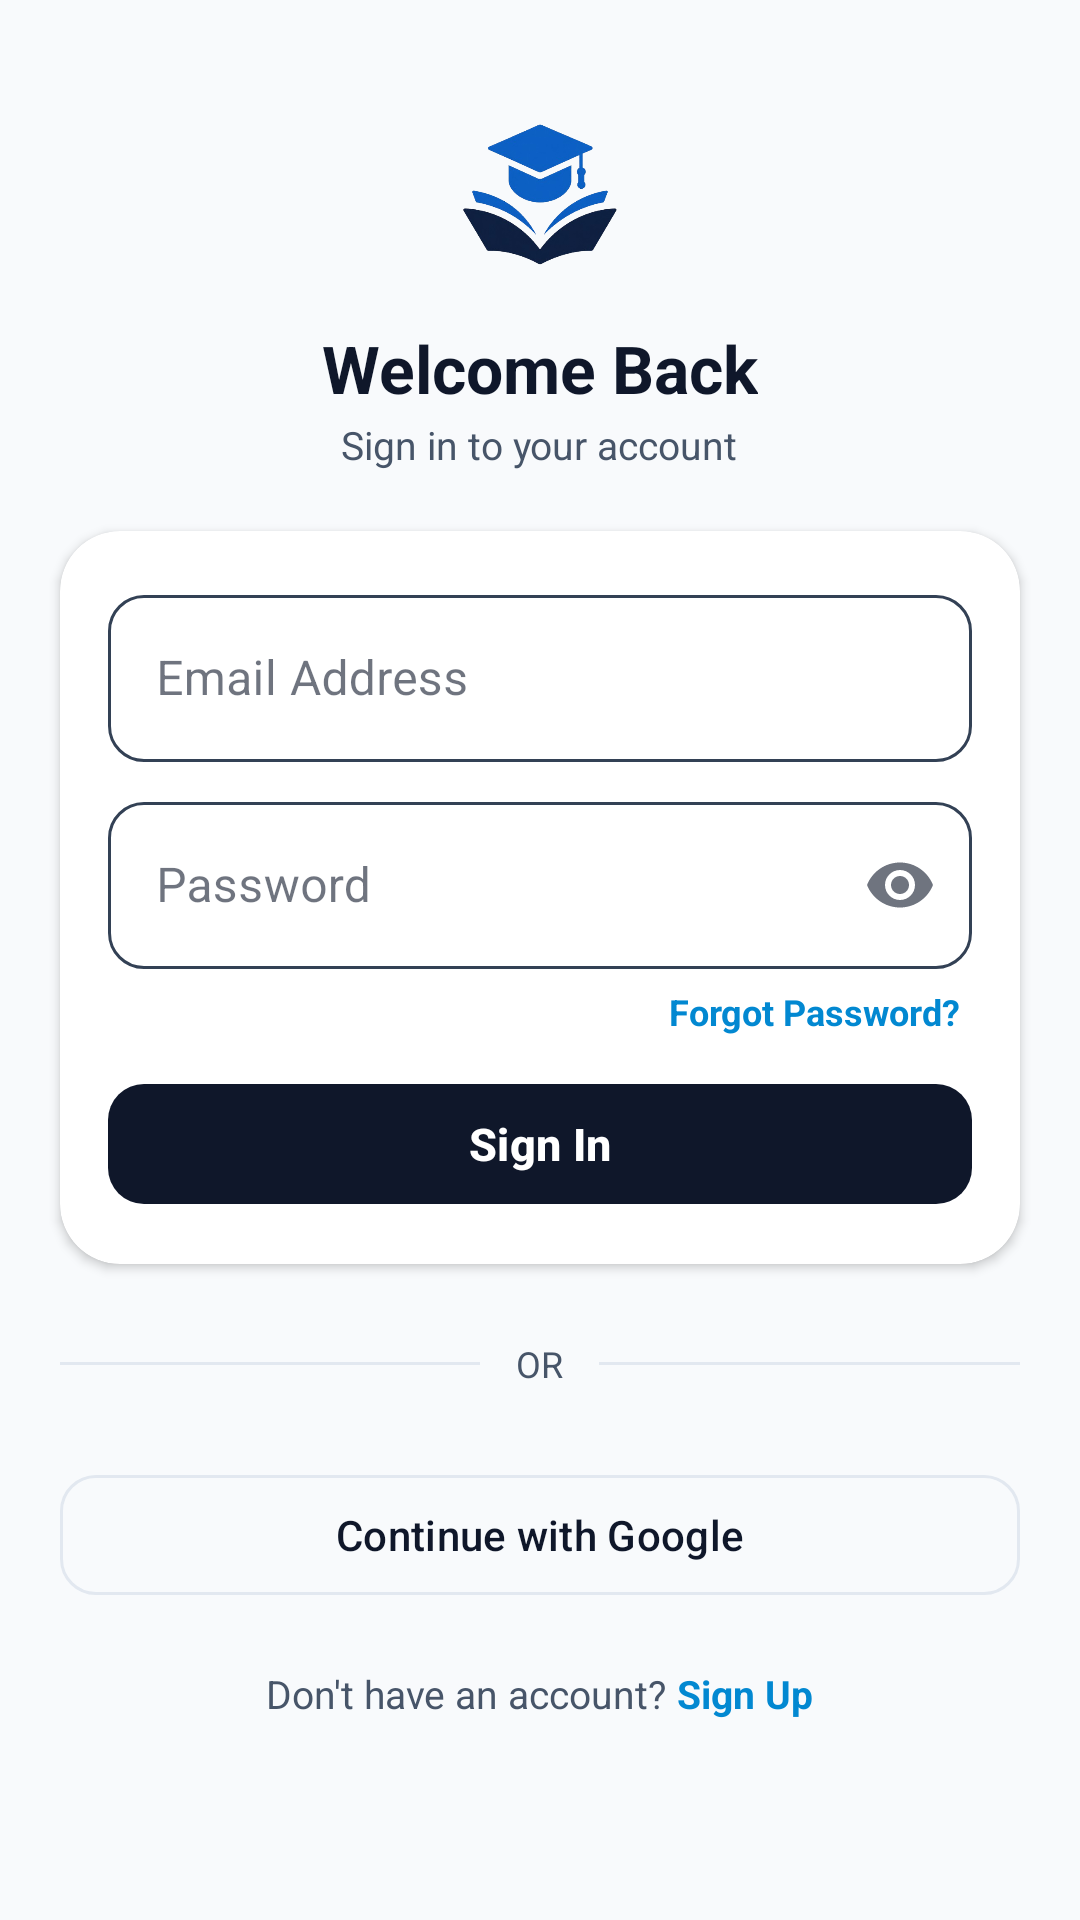

Icon bounding boxes for this 1080 × 1920 phone screenshot, format (x1, y1, x2, y2):
appicon: (463, 124, 617, 264)
